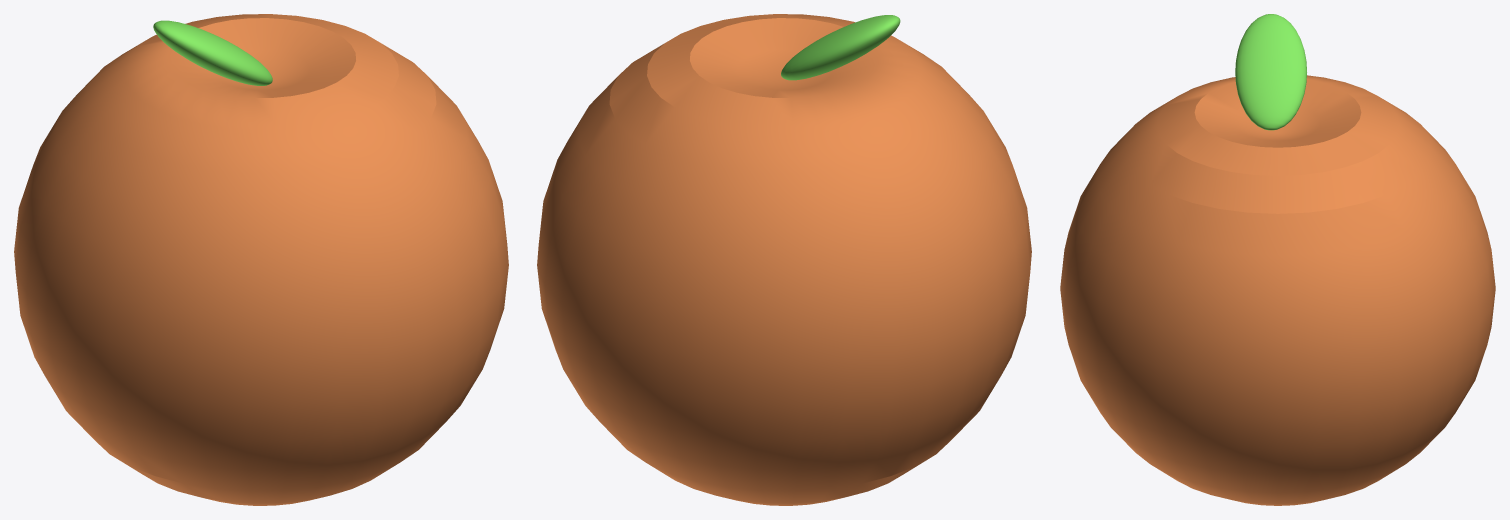
File: みかん滑らか.fbx
3 views of the same model, side by side, from view 1: azimuth 30°, elevation 25°; view 2: azimuth 150°, elevation 25°; view 3: azimuth 270°, elevation 25° (orthographic). The views are drawn at different scales.
Visible parts, largest first — view 1: 球.001; view 2: 球.001; view 3: 球.001.
Part boxes in pixels (x1=…): 球.001: x1=14, y1=14, x2=508, y2=505; 球.001: x1=537, y1=14, x2=1031, y2=505; 球.001: x1=1060, y1=14, x2=1495, y2=505.
Size of the model in its own units: 200 by 216 by 200.
